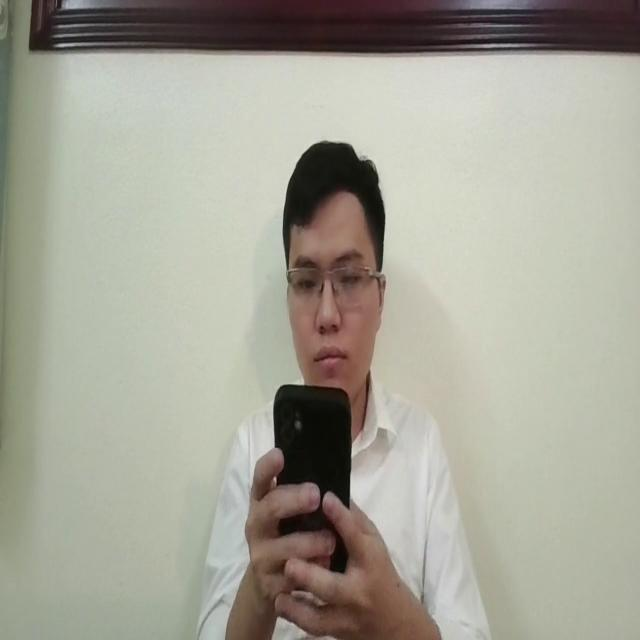phone: (273, 370, 355, 590)
student: (197, 138, 489, 640)
